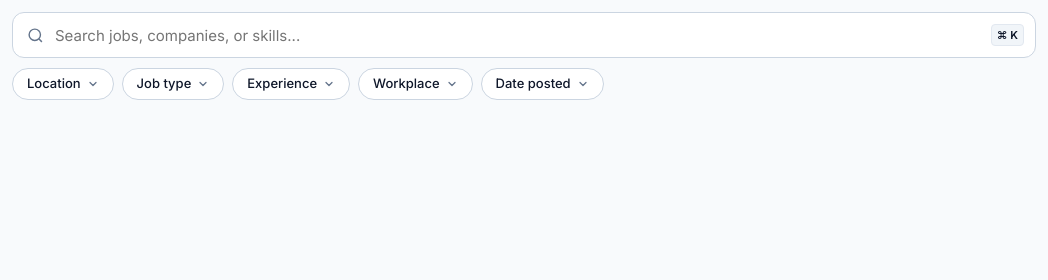
Test: filter dropdowns on a wide screen with a mouse › open a menu that lists the choices and apply the picked one
Step 1. Click the button "Experience" → (291, 84), box [232, 68, 350, 100]
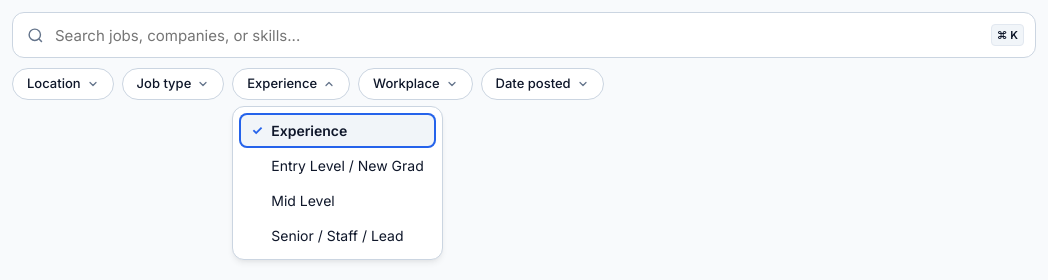
Result: the options read "✓Experience", "Entry Level / New Grad", "Mid Level", "Senior / Staff / Lead", in this order
Step 2. Click the option "Mid Level" → (338, 200), box [239, 183, 436, 218]
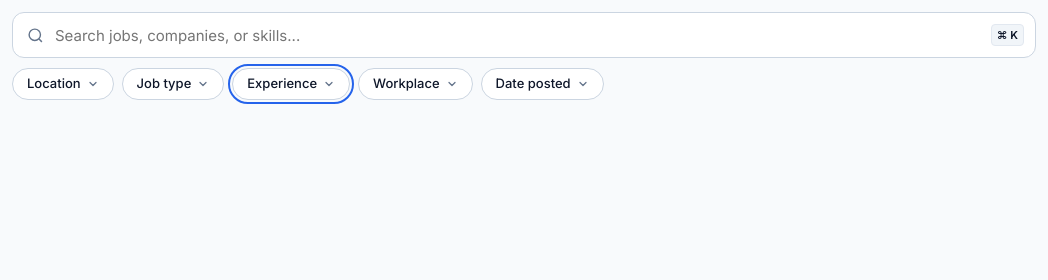
Result: the list is gone
